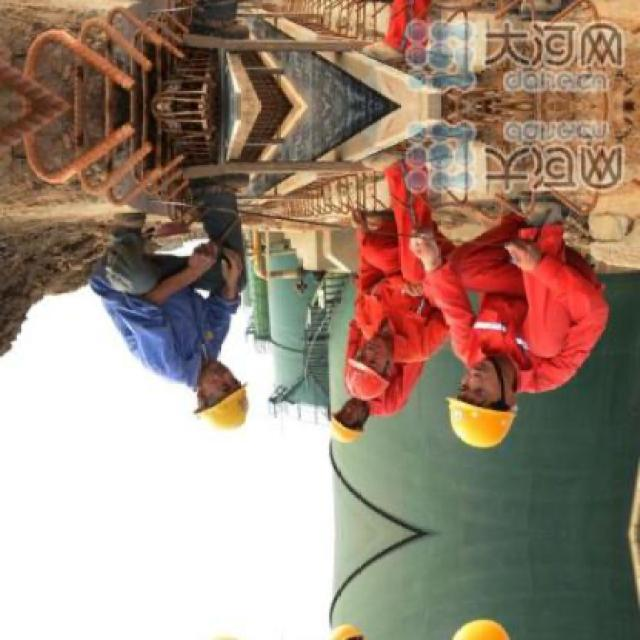con casco: (162, 361, 265, 443), (312, 393, 389, 454), (336, 342, 418, 398)
